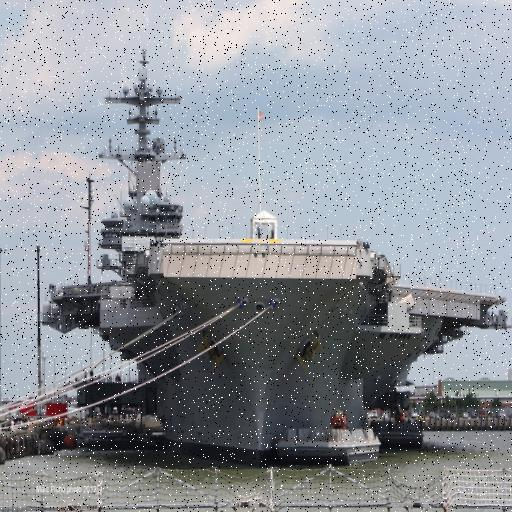Portanaves: (42, 36, 512, 459)
